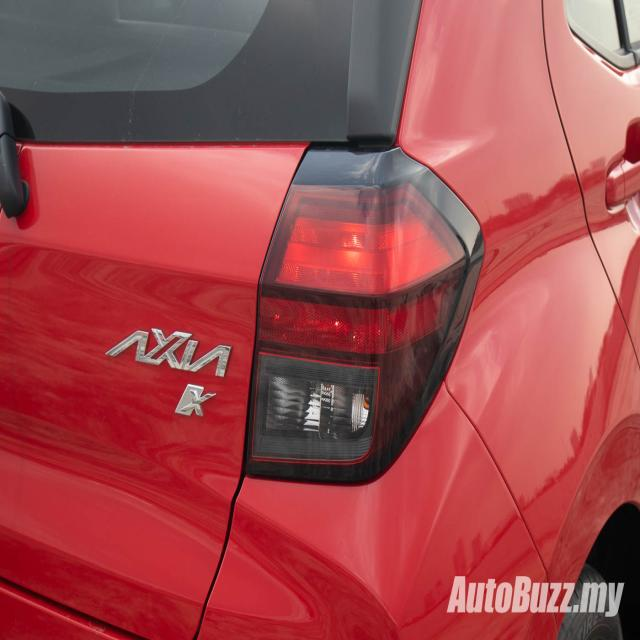PeroduaAxia: (1, 1, 638, 638)
